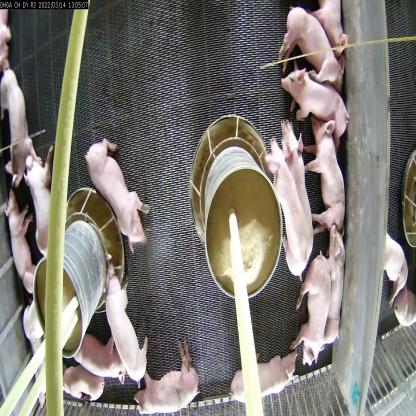Pig: (81, 141, 156, 252), (262, 140, 310, 292), (127, 342, 216, 415), (299, 100, 346, 236), (103, 287, 152, 403), (275, 85, 311, 242), (278, 0, 346, 83), (282, 66, 350, 146), (227, 344, 300, 415), (22, 141, 64, 252), (289, 264, 329, 376), (322, 218, 354, 323), (72, 323, 127, 379), (0, 79, 32, 174), (0, 196, 32, 288), (375, 232, 411, 304), (56, 368, 102, 415)
